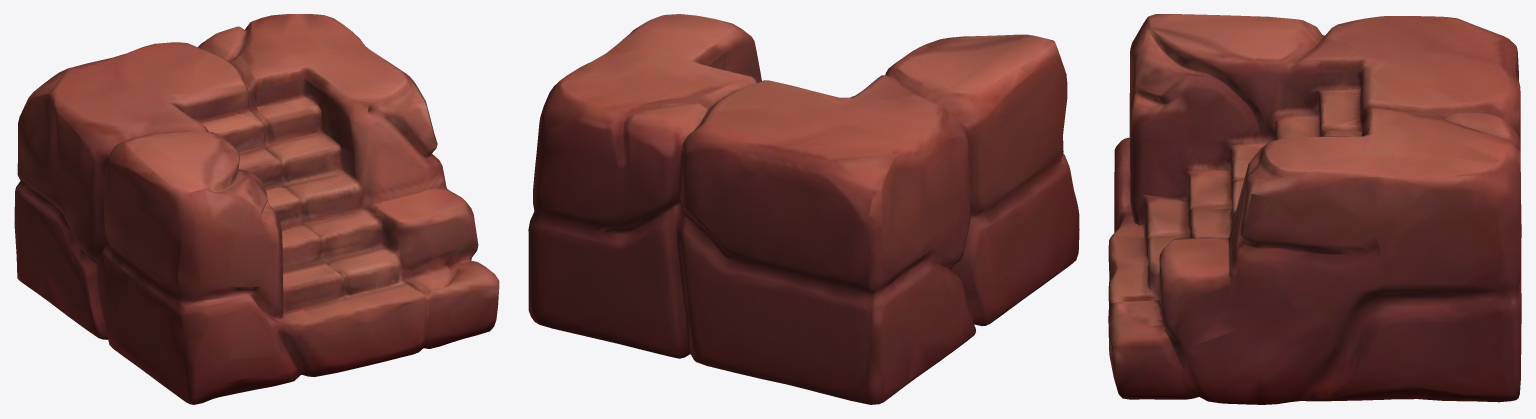
The model's file is t09_escada_terra.glb.
The picture shows the model from 3 angles, left to right: view 1: azimuth 30°, elevation 25°; view 2: azimuth 150°, elevation 25°; view 3: azimuth 270°, elevation 25°; orthographic projection. The views are drawn at different scales.
Visible parts, largest first — view 1: t09_escada_terra; view 2: t09_escada_terra; view 3: t09_escada_terra.
Part boxes in pixels (left/top/right/bottom): t09_escada_terra: left=14, top=14, right=499, bottom=404; t09_escada_terra: left=528, top=14, right=1079, bottom=404; t09_escada_terra: left=1108, top=14, right=1521, bottom=404.
Size of the model in its own units: 0.9994 by 0.6187 by 1.02.
Materials: 1 (1 with a texture image).
